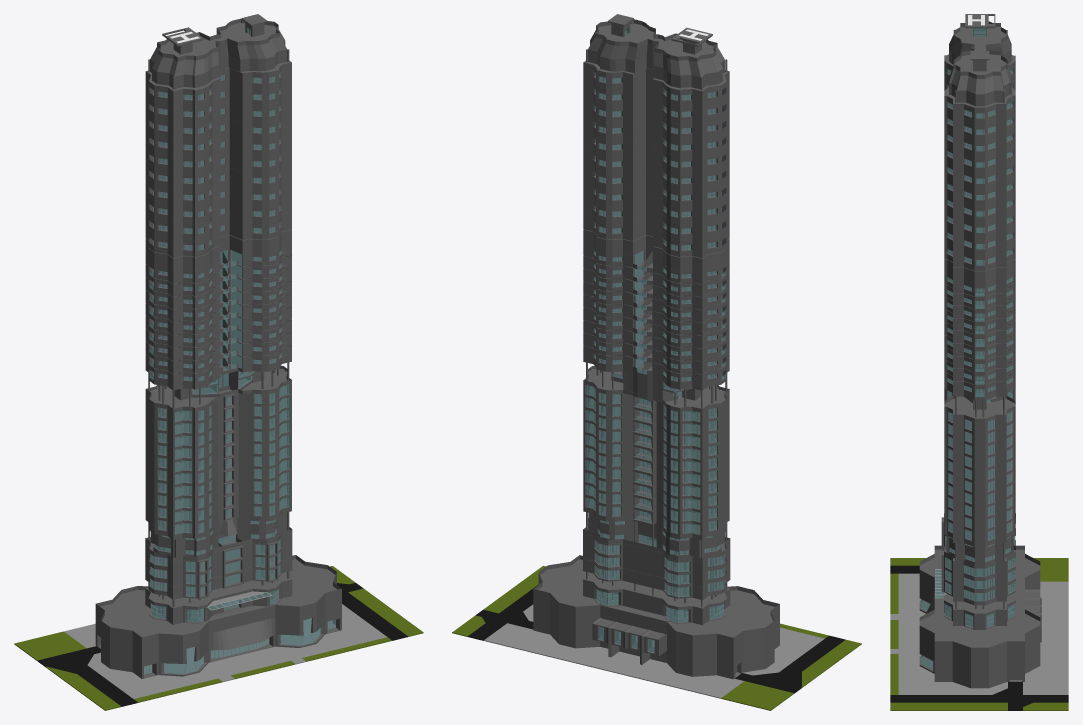
File: skyscraper_tower.glb
The picture shows the model from 3 angles, left to right: view 1: azimuth 30°, elevation 25°; view 2: azimuth 150°, elevation 25°; view 3: azimuth 270°, elevation 25°; orthographic projection. The views are drawn at different scales.
Parts seen in each view (by area): view 1: Object_9, Object_8, Object_11, Object_12, Object_7, Object_6, Object_10, Object_4, Object_2, Object_3, Object_14, Object_17 (+3 smaller); view 2: Object_9, Object_8, Object_11, Object_7, Object_12, Object_6, Object_10, Object_4, Object_2, Object_3, Object_14, Object_17 (+2 smaller); view 3: Object_8, Object_9, Object_11, Object_12, Object_7, Object_4, Object_6, Object_10, Object_2, Object_3, Object_14, Object_16 (+2 smaller).
Part boxes in pixels (box(x1,y1,x2,y2)): Object_9: box(145, 60, 291, 257); Object_8: box(95, 546, 341, 678); Object_11: box(145, 368, 291, 537); Object_12: box(144, 28, 335, 673); Object_7: box(145, 243, 291, 387); Object_6: box(145, 14, 292, 610); Object_10: box(148, 23, 289, 619); Object_4: box(64, 604, 387, 698); Object_2: box(14, 566, 423, 710); Object_3: box(37, 583, 407, 706); Object_14: box(158, 385, 286, 533); Object_17: box(151, 250, 285, 380); Object_9: box(583, 61, 729, 257); Object_8: box(533, 546, 779, 679); Object_11: box(583, 369, 729, 537); Object_7: box(583, 243, 729, 387); Object_12: box(586, 28, 726, 652); Object_6: box(583, 14, 730, 611); Object_10: box(586, 23, 727, 617); Object_4: box(484, 604, 824, 698); Object_2: box(452, 565, 861, 710); Object_3: box(468, 584, 845, 693); Object_14: box(585, 385, 716, 534); Object_17: box(591, 250, 724, 381); Object_8: box(919, 534, 1041, 688); Object_9: box(944, 54, 1015, 270); Object_11: box(944, 388, 1015, 543); Object_12: box(921, 28, 1015, 669); Object_7: box(944, 272, 1015, 397); Object_4: box(890, 573, 1068, 694); Object_6: box(941, 14, 1015, 580); Object_10: box(949, 27, 1011, 608); Object_2: box(890, 558, 1068, 710); Object_3: box(890, 565, 1068, 710); Object_14: box(947, 390, 1013, 539); Object_16: box(948, 70, 1012, 265).
Size of the model in its own units: 80 by 147 by 39.6.
